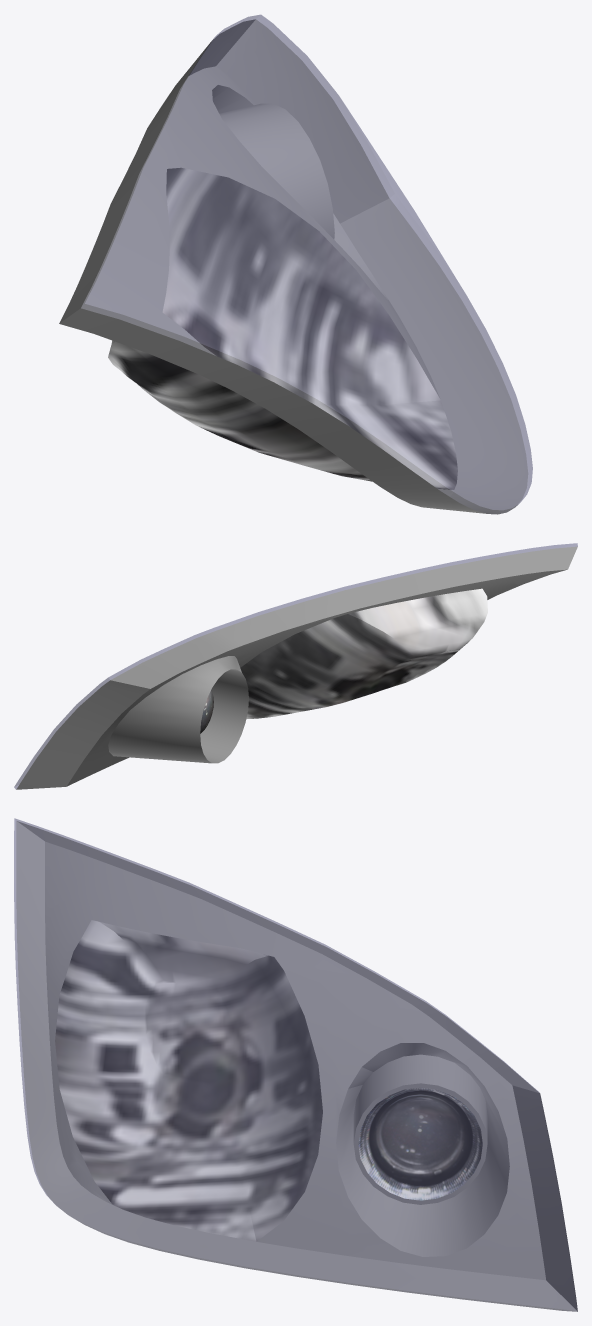
3 views of the same model, one above another, from view 1: azimuth 30°, elevation 25°; view 2: azimuth 150°, elevation 25°; view 3: azimuth 270°, elevation 25° (orthographic). The views are drawn at different scales.
Parts seen in each view (by area): view 1: P158_061B_R_P158_061B_R_5_DTaSI, P158_061B_R_P158_061B_R_3_DaS, P158_061B_R_P158_061B_R_2_N; view 2: P158_061B_R_P158_061B_R_3_DaS, P158_061B_R_P158_061B_R_2_N, P158_061B_R_P158_061B_R_5_DTaSI; view 3: P158_061B_R_P158_061B_R_5_DTaSI, P158_061B_R_P158_061B_R_3_DaS, P158_061B_R_P158_061B_R_2_N, P158_061B_R_1_N_P158_061B_R.
Boxes of the visible parts, bbox=[...] form: P158_061B_R_P158_061B_R_5_DTaSI: bbox=[81, 14, 532, 514]; P158_061B_R_P158_061B_R_3_DaS: bbox=[59, 19, 528, 514]; P158_061B_R_P158_061B_R_2_N: bbox=[108, 168, 457, 489]; P158_061B_R_P158_061B_R_3_DaS: bbox=[16, 546, 577, 789]; P158_061B_R_P158_061B_R_2_N: bbox=[240, 588, 487, 718]; P158_061B_R_P158_061B_R_5_DTaSI: bbox=[14, 543, 577, 789]; P158_061B_R_P158_061B_R_5_DTaSI: bbox=[14, 818, 577, 1311]; P158_061B_R_P158_061B_R_3_DaS: bbox=[16, 821, 577, 1311]; P158_061B_R_P158_061B_R_2_N: bbox=[55, 920, 322, 1241]; P158_061B_R_1_N_P158_061B_R: bbox=[358, 1087, 482, 1200].
Size of the model in its own units: 42.68 by 20.96 by 41.89.
